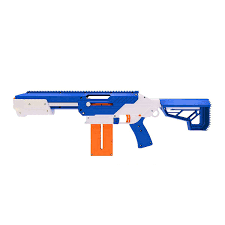Arma Falsa: (12, 88, 214, 156)
